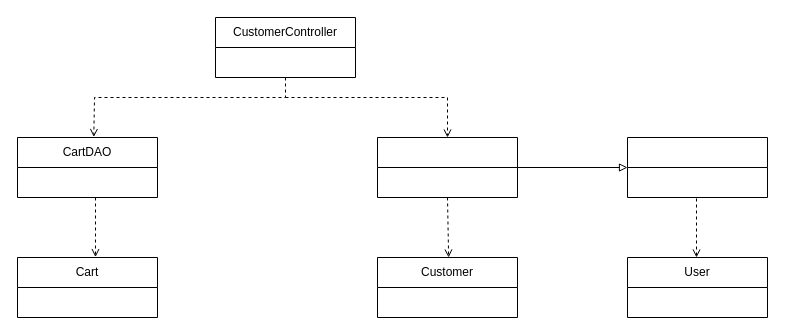
This 785x335 diagram has some shape labels left out. Each missing label, with the centre of its shape:
CustomerDAO: [447,167]
UserDAO: [697,167]
